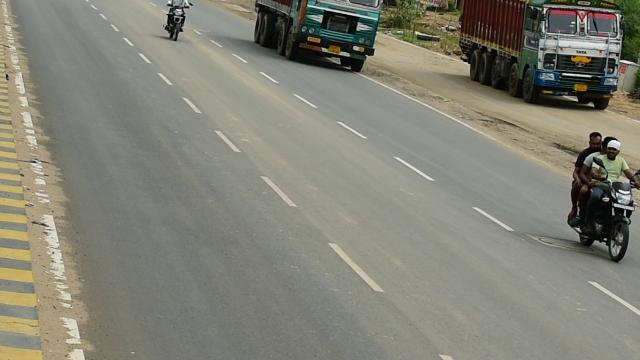Without Helmet: (600, 136, 624, 158)
